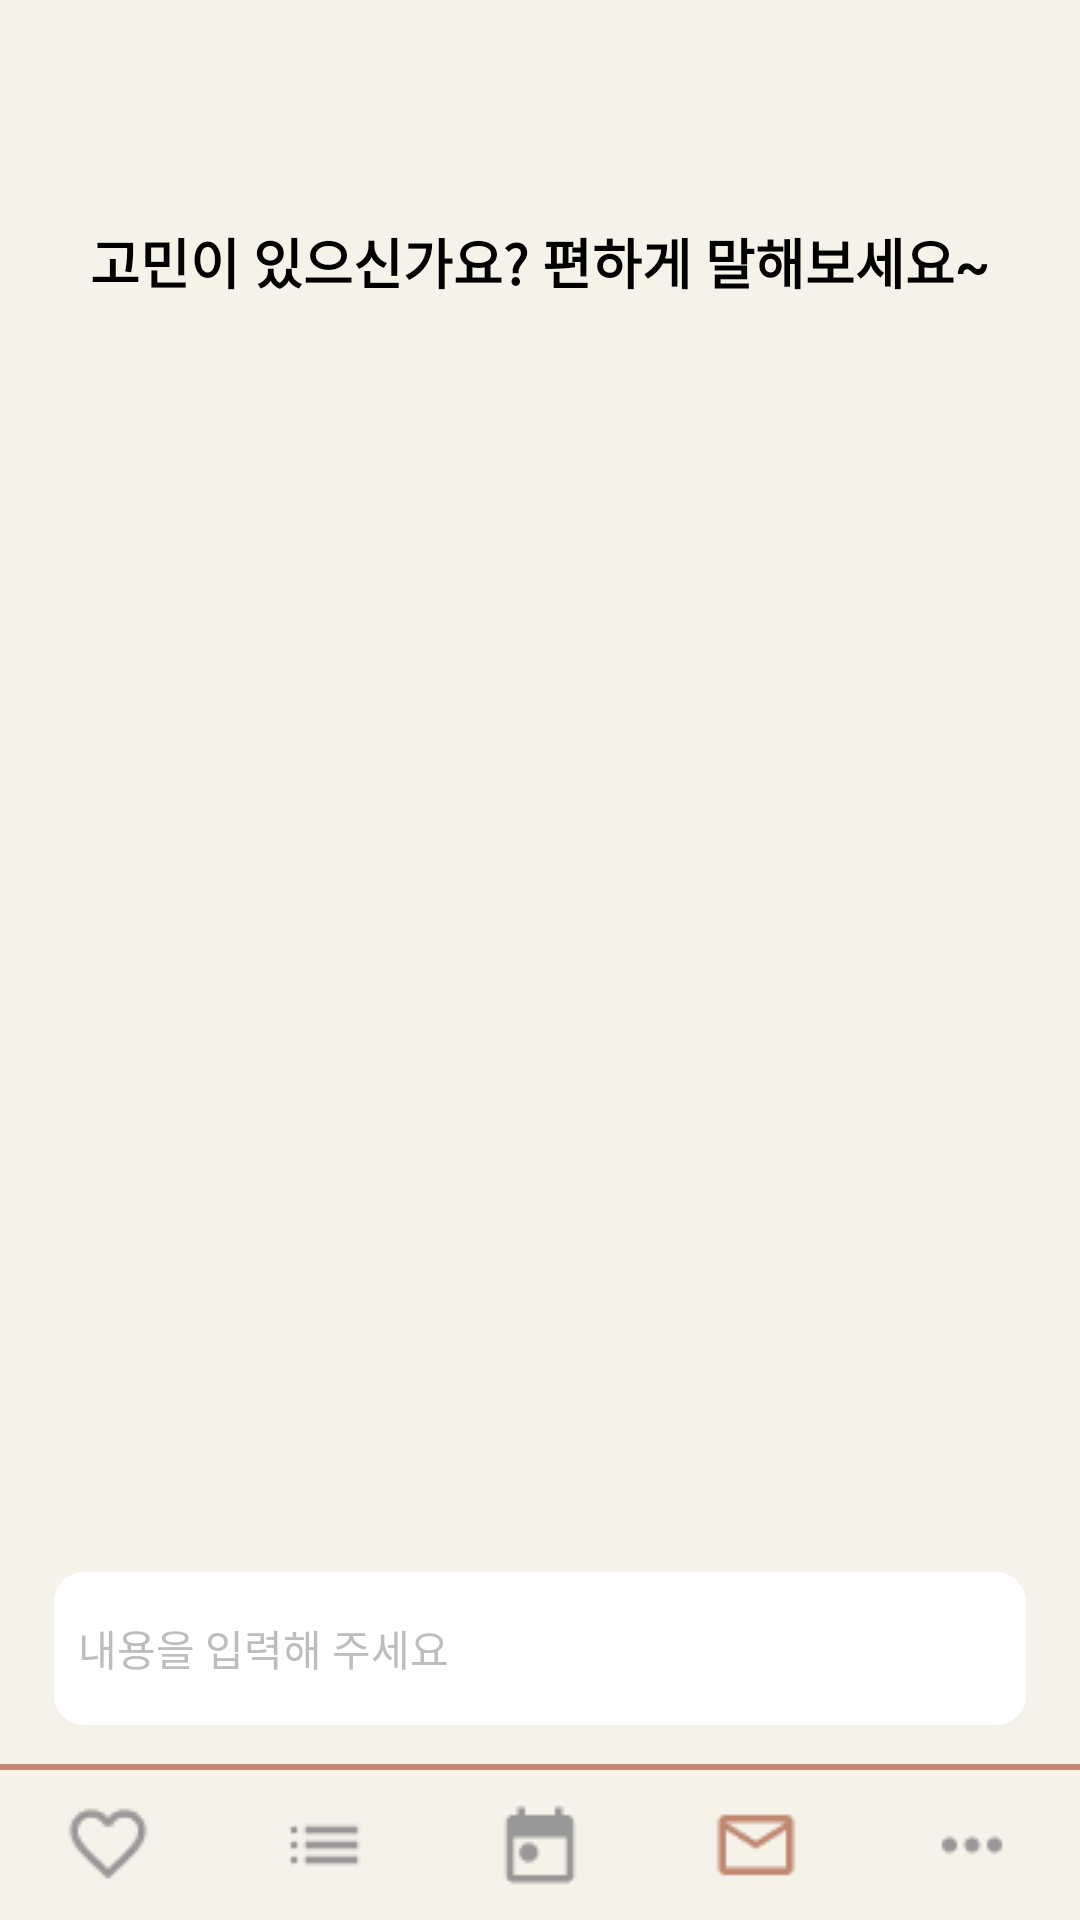

Named icons in this screenshot (1080x1920) and their bounding boxes, (x1, y1, x2, y2):
favorite: (69, 1809, 147, 1879)
list: (290, 1826, 358, 1864)
mail: (717, 1814, 795, 1876)
more horiz: (941, 1836, 1003, 1854)
today: (506, 1806, 574, 1884)
